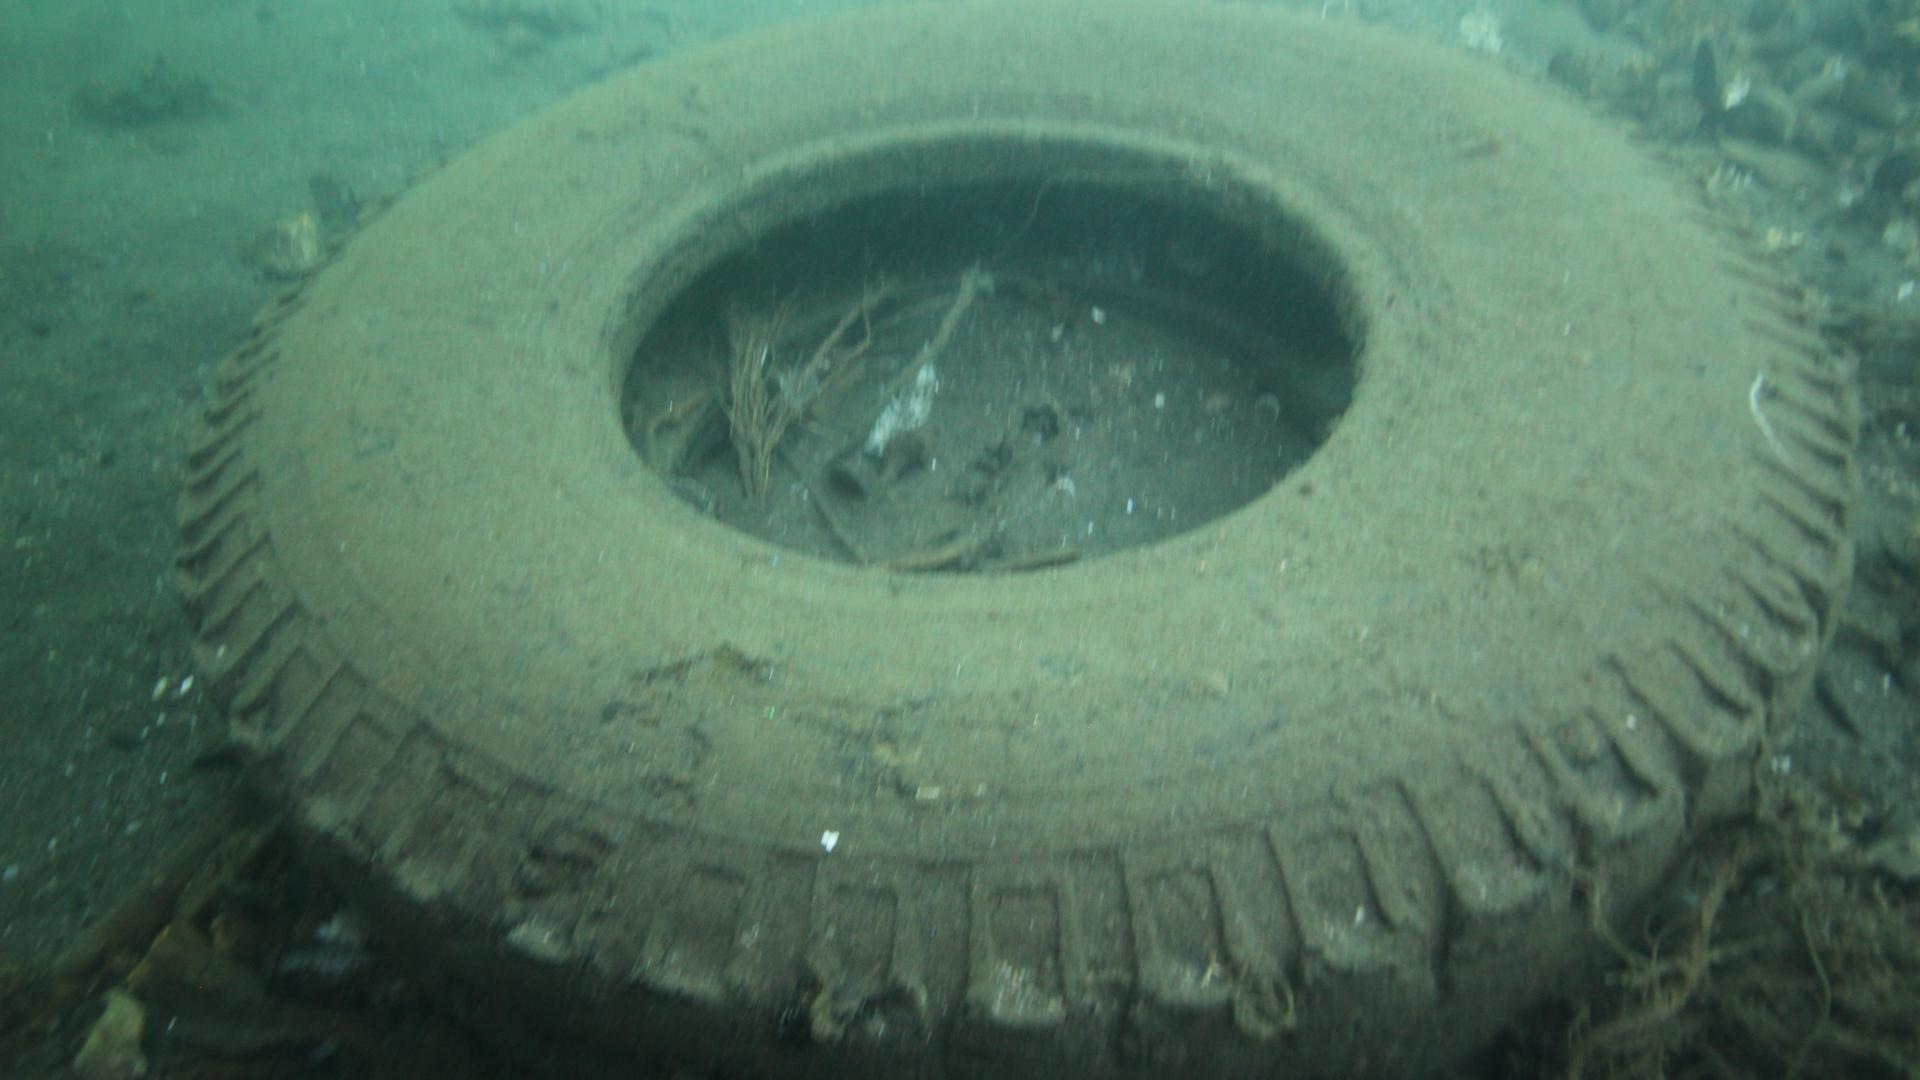tire: (179, 0, 1865, 1080)
